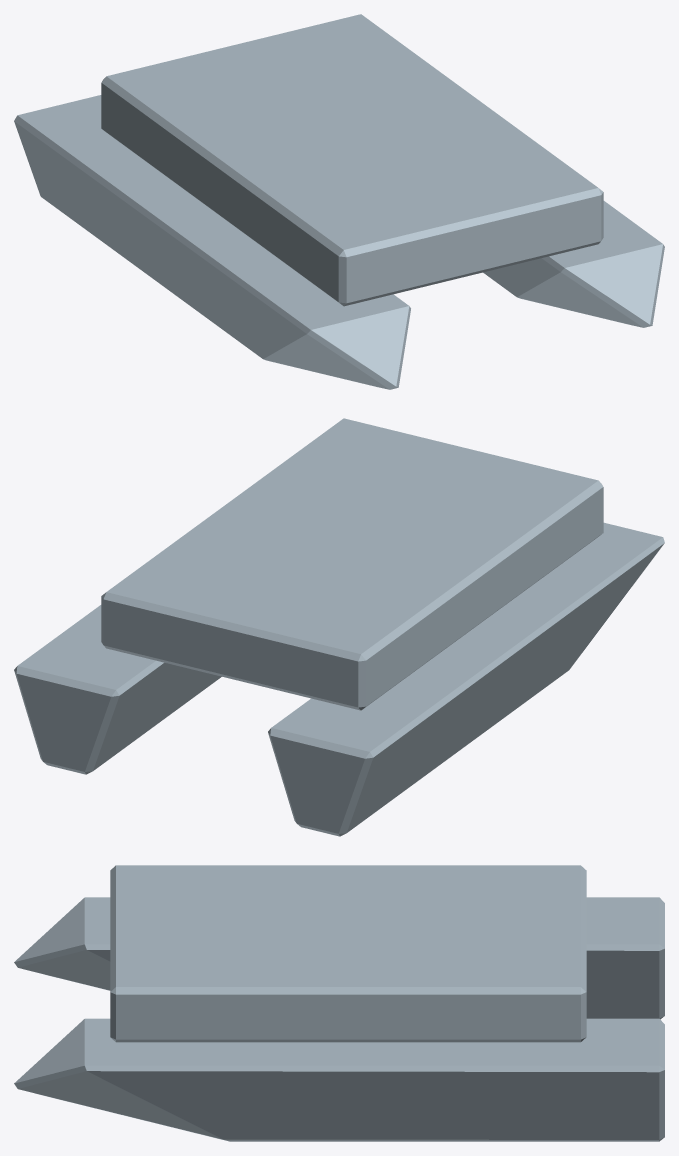
Rendered from catamaran_hull.glb.
3 renders of one model, top to bottom at view 1: azimuth 30°, elevation 25°; view 2: azimuth 150°, elevation 25°; view 3: azimuth 270°, elevation 25°, orthographic. The views are drawn at different scales.
Visible parts, largest first — view 1: catamaran_hull; view 2: catamaran_hull; view 3: catamaran_hull.
Part boxes in pixels (bbox=[...]): catamaran_hull: bbox=[14, 14, 664, 389]; catamaran_hull: bbox=[14, 418, 664, 836]; catamaran_hull: bbox=[14, 865, 664, 1141].
Bounding box in the file's own units: 4.56 × 1.8 × 7.3.
